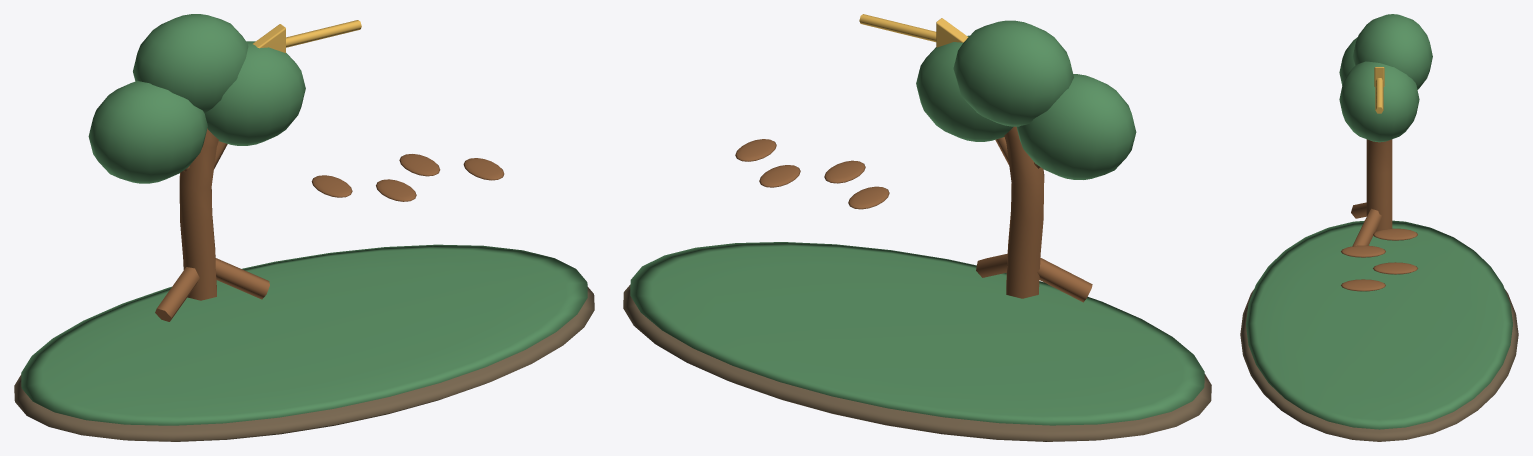
File: complete-second-root-arrival-original.glb
3 renders of one model, left to right at view 1: azimuth 30°, elevation 25°; view 2: azimuth 150°, elevation 25°; view 3: azimuth 270°, elevation 25°, orthographic. The views are drawn at different scales.
Visible parts, largest first — view 1: complete-second-root-arrival-original_surface_01, complete-second-root-arrival-original_surface_00, complete-second-root-arrival-original_surface_02, complete-second-root-arrival-original_surface_03; view 2: complete-second-root-arrival-original_surface_01, complete-second-root-arrival-original_surface_00, complete-second-root-arrival-original_surface_02, complete-second-root-arrival-original_surface_03; view 3: complete-second-root-arrival-original_surface_01, complete-second-root-arrival-original_surface_02, complete-second-root-arrival-original_surface_00, complete-second-root-arrival-original_surface_03.
Part boxes in pixels (<box>): complete-second-root-arrival-original_surface_01: <box>21,14,587,425</box>; complete-second-root-arrival-original_surface_00: <box>14,287,594,441</box>; complete-second-root-arrival-original_surface_02: <box>155,128,504,321</box>; complete-second-root-arrival-original_surface_03: <box>253,20,361,52</box>; complete-second-root-arrival-original_surface_01: <box>630,20,1204,425</box>; complete-second-root-arrival-original_surface_00: <box>623,285,1211,441</box>; complete-second-root-arrival-original_surface_02: <box>735,126,1092,302</box>; complete-second-root-arrival-original_surface_03: <box>859,14,968,47</box>; complete-second-root-arrival-original_surface_01: <box>1246,14,1512,429</box>; complete-second-root-arrival-original_surface_02: <box>1341,139,1417,291</box>; complete-second-root-arrival-original_surface_00: <box>1240,289,1518,441</box>; complete-second-root-arrival-original_surface_03: <box>1374,67,1384,113</box>.
Size of the model in its own units: 4.56 by 2.86 by 2.5.
